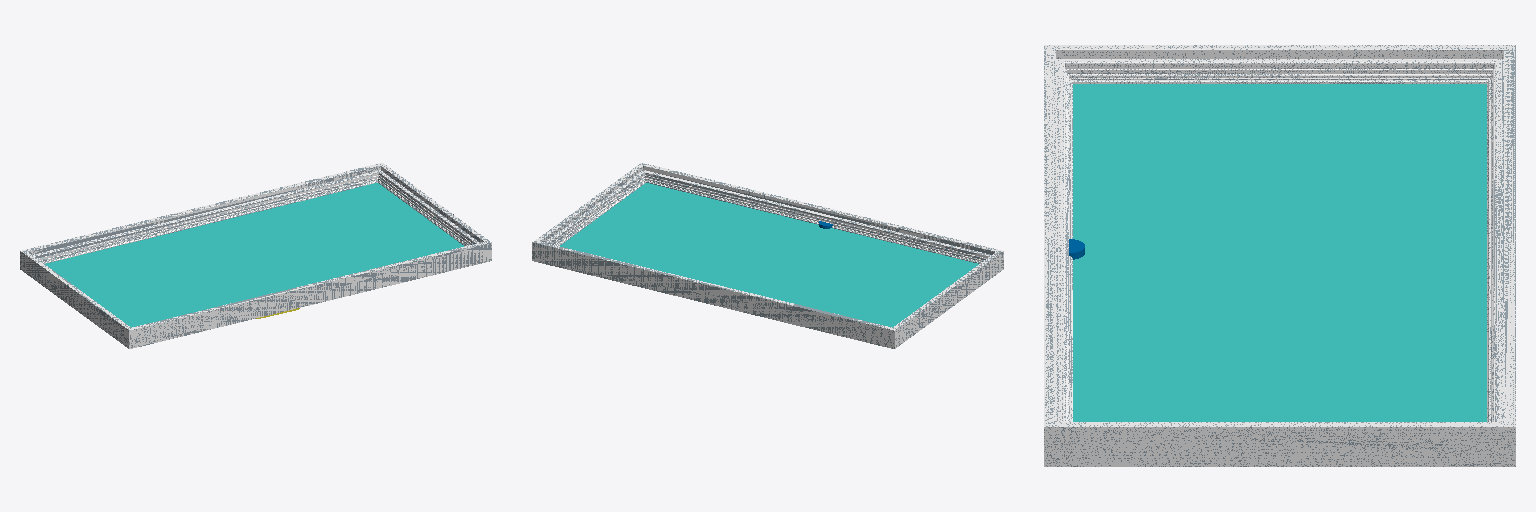
robot.urdf — window:
<robot name="window">
	<link name="base" />
	<link name="link_0">
		<visual name="out-frame">
			<origin xyz="0 0 0" />
			<geometry>
				<mesh filename="texture_dae/untitled.dae" scale="0.5 0.5 0.5" />
			</geometry>
		</visual>
		<collision>
			<origin xyz="0 0 0" />
			<geometry>
				<mesh filename="texture_dae/untitled.dae" scale="0.5 0.5 0.5" />
			</geometry>
		</collision>
	</link>
	<joint name="joint_0" type="fixed">
		<origin rpy="1.570796326794897 0 -1.570796326794897" xyz="0 0 0" />
		<child link="link_0" />
		<parent link="base" />
	</joint>
	<link name="link_1">
		<visual name="surf-board">
			<origin xyz="0.30546158315543975 -0.5833843402065071 0" />
			<geometry>
				<mesh filename="texture_dae/untitled1.dae" scale="0.5 0.5 0.5" />
			</geometry>
		</visual>
		<collision>
			<origin xyz="0.30546158315543975 -0.5833843402065071 0" />
			<geometry>
				<mesh filename="texture_dae/untitled1.dae" scale="0.5 0.5 0.5" />
			</geometry>
		</collision>
	</link>
	<joint name="joint_1" type="revolute">
		<origin xyz="-0.30546158315543975 0.5833843402065071 0" />
		<axis xyz="0 -1 0" />
		<child link="link_1" />
		<parent link="link_0" />
		<limit lower="0" upper="1.5079644737231006" />
	</joint>
	<link name="link_2">
		<visual name="handle">
			<origin xyz="0 0 0" />
			<geometry>
				<mesh filename="texture_dae/9969537-handle.dae" scale="1.1117859809046424 1.1117859809046424 1.1117859809046424" />
			</geometry>
		</visual>
		<collision>
			<origin xyz="0 0 0" />
			<geometry>
				<mesh filename="texture_dae/9969537-handle.dae" scale="1.1117859809046424 1.1117859809046424 1.1117859809046424" />
			</geometry>
		</collision>
	</link>
	<joint name="joint_2" type="revolute">
		<origin xyz="0 0 0" />
		<child link="link_2" />
		<parent link="link_3" />
		<axis xyz="0 0 1" />
		<limit lower="0" upper="0" />
	</joint>
	<link name="link_3">
		<visual name="lock">
			<origin xyz="0 0 0" />
			<geometry>
				<mesh filename="texture_dae/9969537-lock.dae" scale="1.1117859809046424 1.1117859809046424 1.1117859809046424" />
			</geometry>
		</visual>
		<collision>
			<origin xyz="0 0 0" />
			<geometry>
				<mesh filename="texture_dae/9969537-lock.dae" scale="1.1117859809046424 1.1117859809046424 1.1117859809046424" />
			</geometry>
		</collision>
	</link>
	<joint name="joint_3" type="fixed">
		<origin xyz="0.57960002006893 -0.5833843402065071 0.028971898873196622" />
		<child link="link_3" />
		<parent link="link_1" />
	</joint>
</robot>

--- Render facts (derived) ---
3 views of the same robot in one strip: view 1: azimuth 30°, elevation 25°; view 2: azimuth 150°, elevation 25°; view 3: azimuth 270°, elevation 25° (orthographic).
Model window with 5 links and 4 joints (2 revolute, 2 fixed), rooted at base, posed all joints at 0.
Visible links, largest first — view 1: link_1; view 2: link_1; view 3: link_1.
Link boxes in pixels (x1,y1,x2,y2): link_1: [20, 163, 491, 348]; link_1: [532, 163, 1003, 348]; link_1: [1044, 45, 1515, 466].
Bounding box of the posed robot: 1.17 × 0.6096 × 0.0737 m (x, y, z).
3 mesh visuals loaded from 4 distinct referenced files (3 Collada DAE); not drawn: 1 (reference not matched to a file when rendering).
